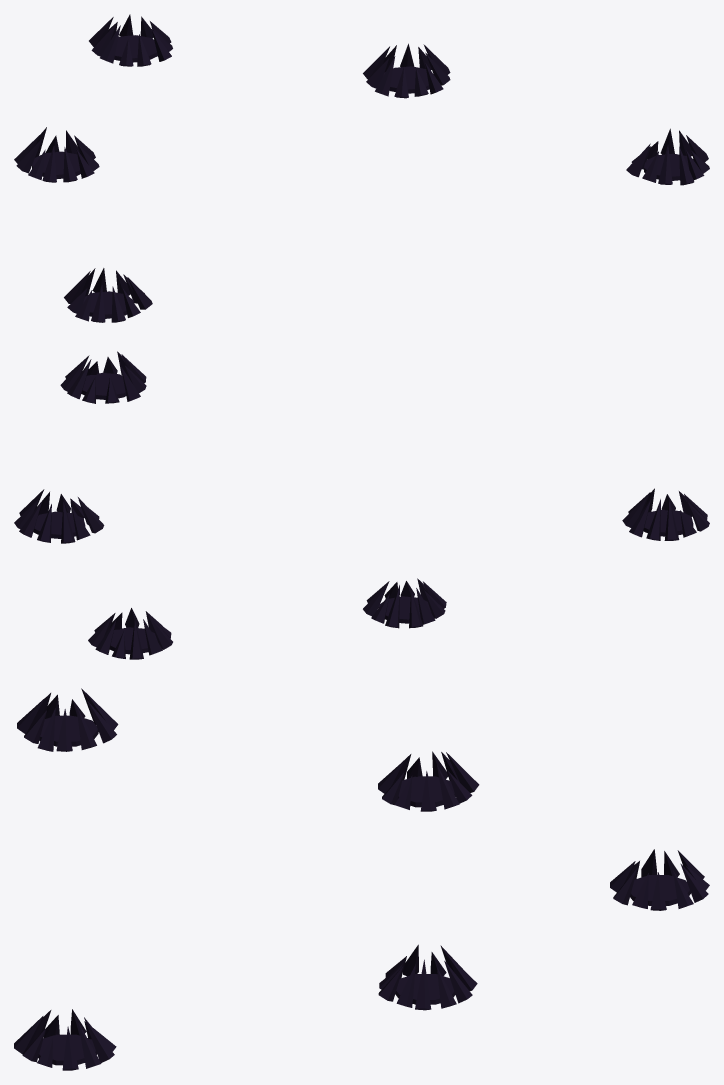
File: EggNests.fbx
The picture shows the model from 3 angles, top to bottom: view 1: azimuth 30°, elevation 25°; view 2: azimuth 150°, elevation 25°; view 3: azimuth 270°, elevation 25°; orthographic projection. The views are drawn at different scales.
Visible parts, largest first — view 1: Nest0_0.001; view 2: Nest0_0.001; view 3: Nest0_0.001.
Part boxes in pixels (x1,y1,x2,y2): Nest0_0.001: (14, 14, 709, 322); Nest0_0.001: (14, 351, 709, 659); Nest0_0.001: (14, 688, 709, 1070).
Bounding box in the file's own units: 9522 × 544 × 7748.
